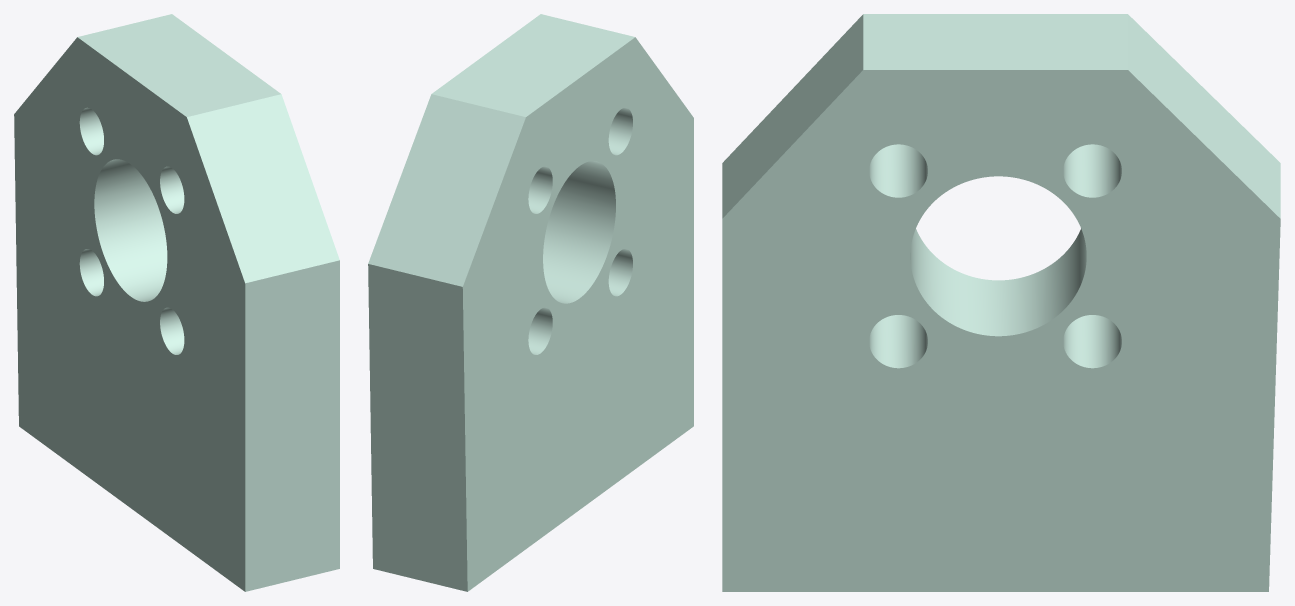
The picture shows the model from 3 angles, left to right: view 1: azimuth 30°, elevation 25°; view 2: azimuth 150°, elevation 25°; view 3: azimuth 270°, elevation 25°; orthographic projection. The views are drawn at different scales.
Parts seen in each view (by area): view 1: Renderer Node; view 2: Renderer Node; view 3: Renderer Node.
Boxes of the visible parts, x1,y1,x2,y2 form: Renderer Node: (14,14,339,591); Renderer Node: (368,14,693,591); Renderer Node: (722,14,1280,591).
Bounding box in the file's own units: 0.1719 × 0.7495 × 0.7266.
